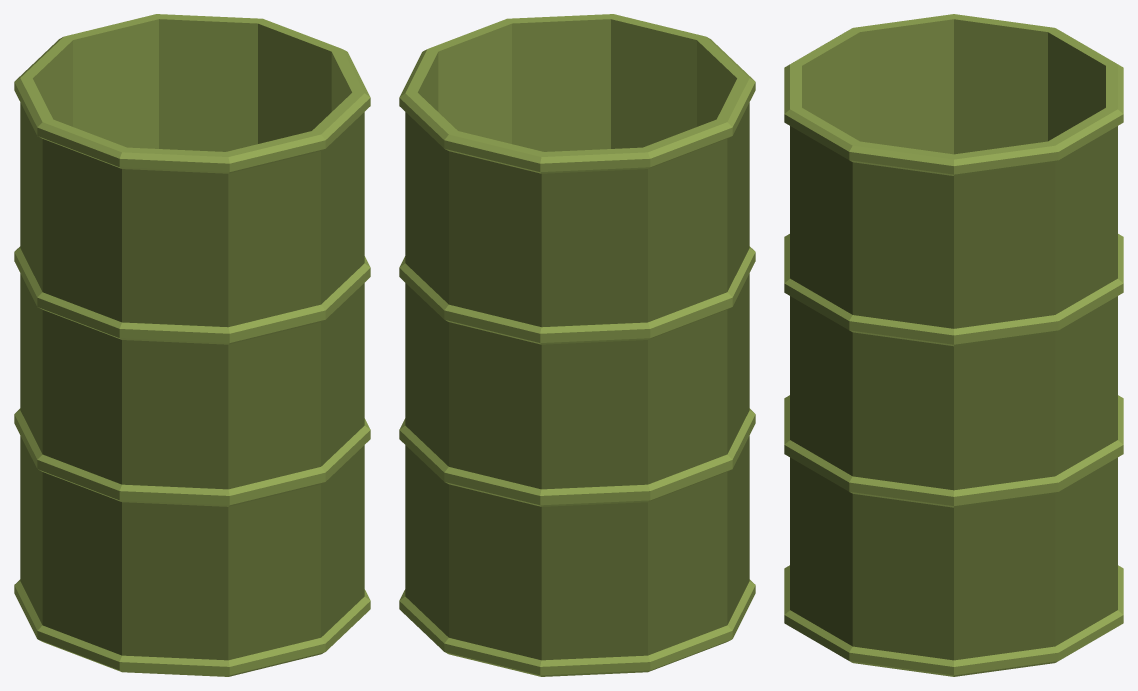
File: Drum_4.FBX
The picture shows the model from 3 angles, left to right: view 1: azimuth 30°, elevation 25°; view 2: azimuth 150°, elevation 25°; view 3: azimuth 270°, elevation 25°; orthographic projection.
Visible parts, largest first — view 1: drum_005; view 2: drum_005; view 3: drum_005.
Boxes of the visible parts, box(x1,y1,x2,y2) form: drum_005: box(14, 14, 370, 676); drum_005: box(399, 14, 755, 676); drum_005: box(784, 14, 1123, 676).
Size of the model in its own units: 0.5919 by 0.9476 by 0.5629.
1 material, 1 textured.
